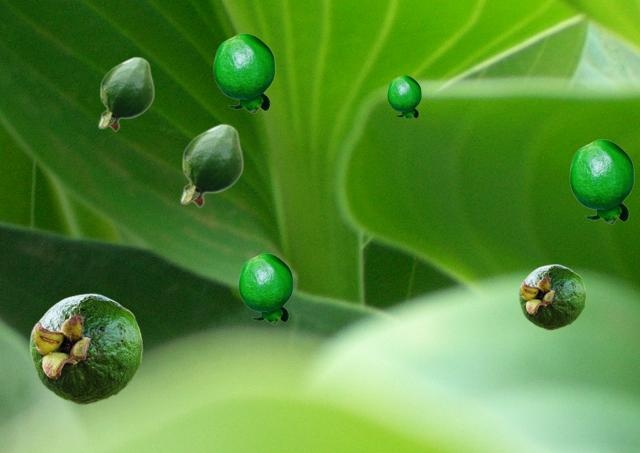guava: (29, 293, 142, 404), (569, 139, 633, 223), (180, 123, 242, 207), (213, 33, 274, 112), (518, 264, 585, 329), (98, 56, 153, 131), (238, 253, 292, 323), (387, 75, 420, 118)
